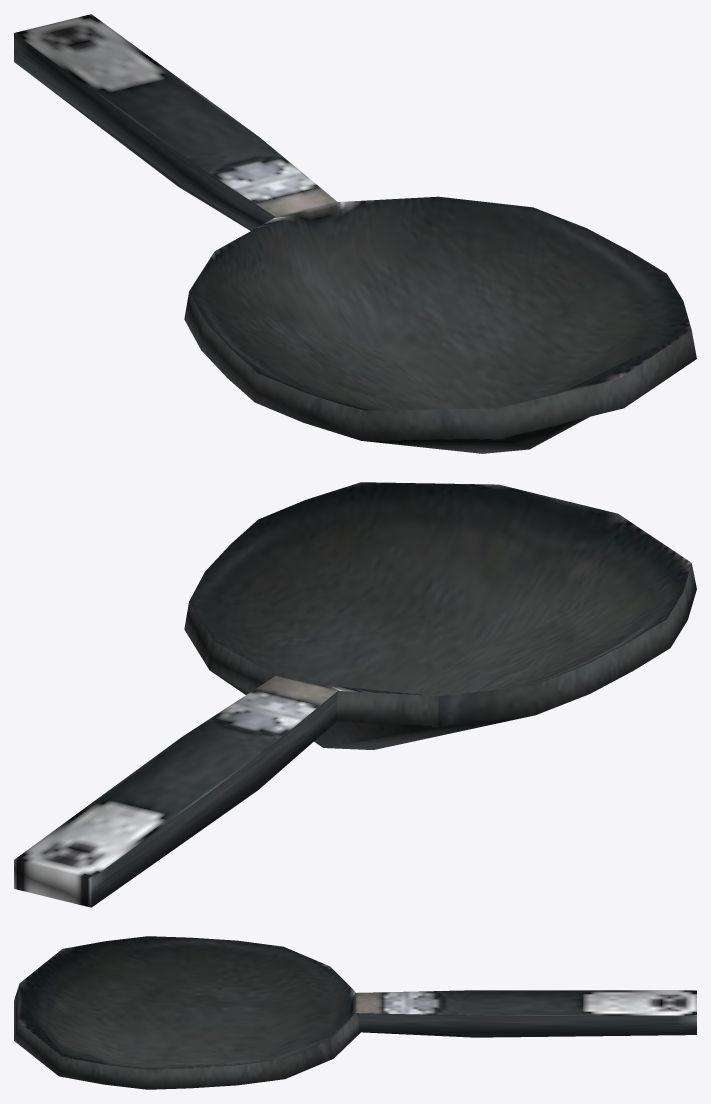
The model's file is Pan.fbx_Scene.fbx.
The picture shows the model from 3 angles, top to bottom: view 1: azimuth 30°, elevation 25°; view 2: azimuth 150°, elevation 25°; view 3: azimuth 270°, elevation 25°; orthographic projection. The views are drawn at different scales.
Parts seen in each view (by area): view 1: Pan; view 2: Pan; view 3: Pan.
Part boxes in pixels (<box>): Pan: <box>14,14,696,453</box>; Pan: <box>14,482,696,907</box>; Pan: <box>14,936,696,1089</box>.
Bounding box in the file's own units: 37.57 × 10 × 79.82.
Materials: 1 (1 with a texture image).
